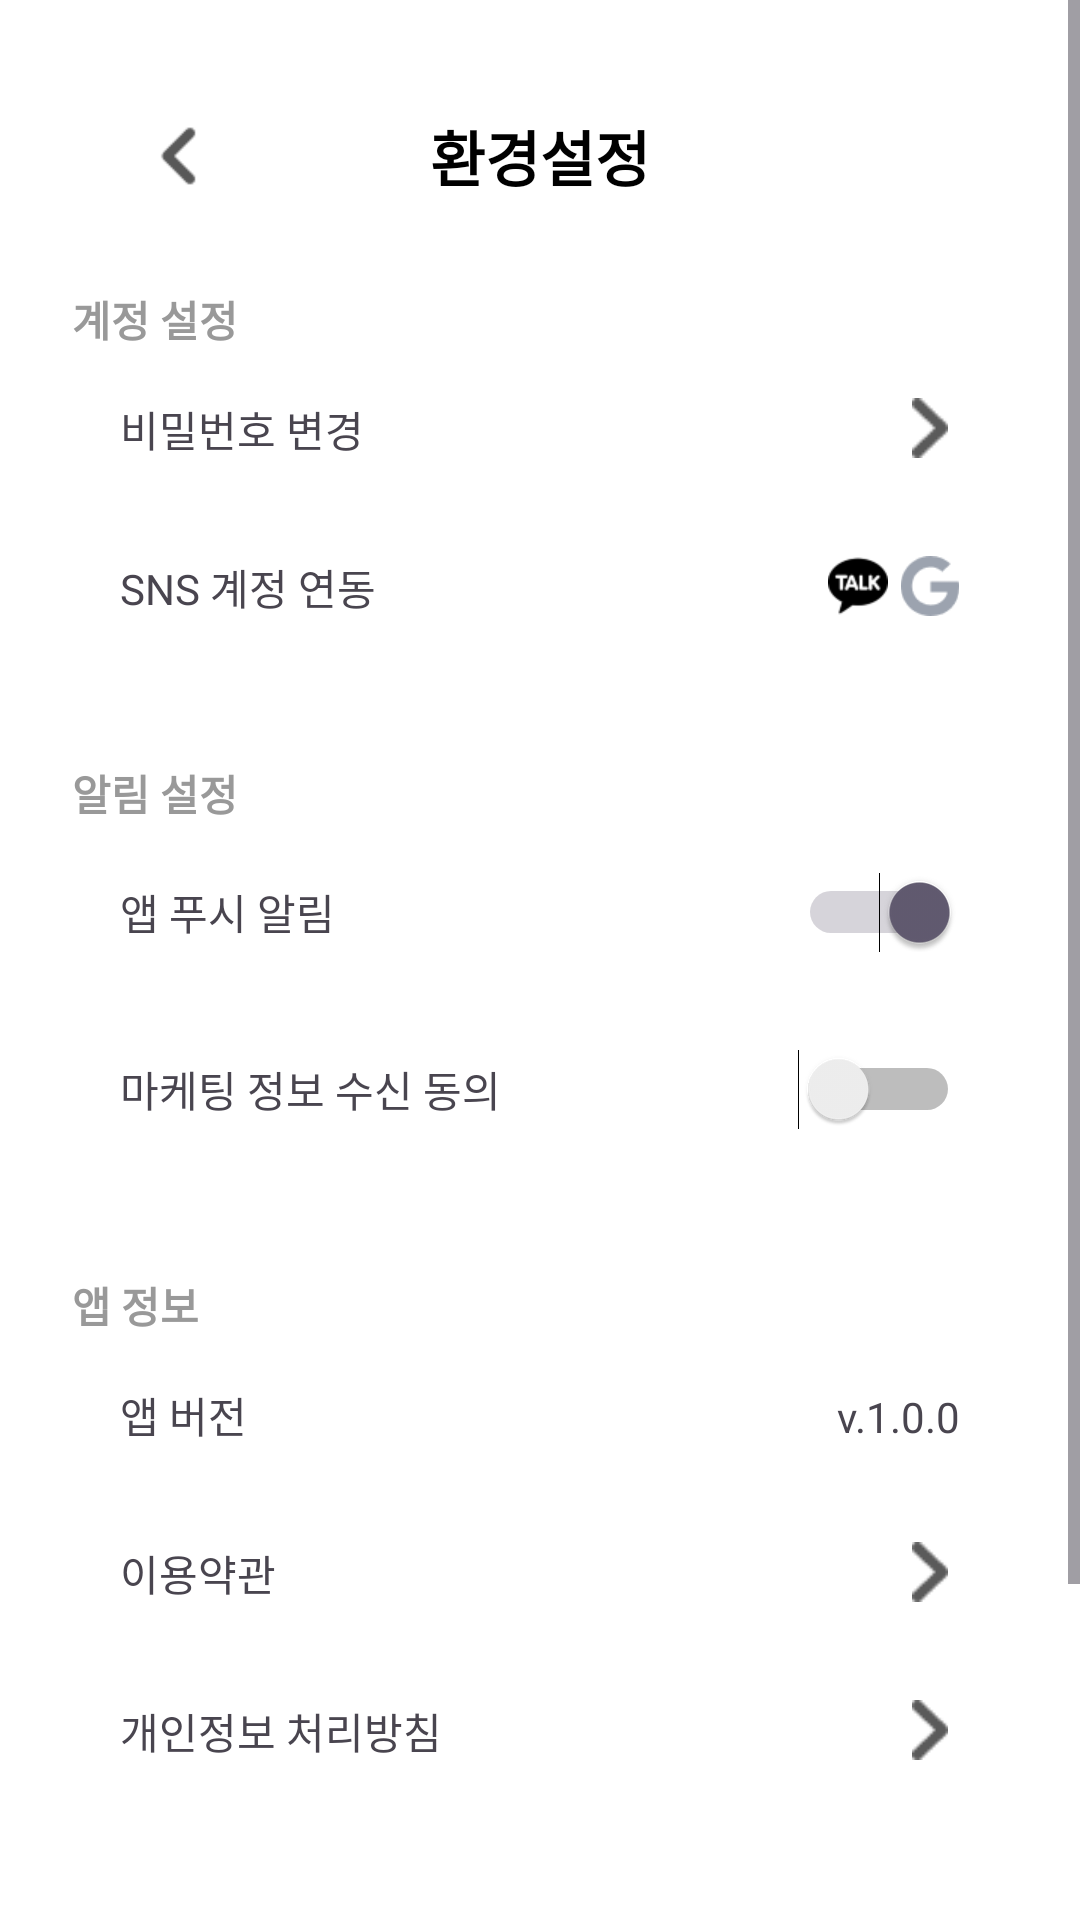

Named icons in this screenshot (1080w x 1920h) and their bounding boxes, (x1, y1, x2, y2):
back: (161, 127, 196, 185)
right: (912, 398, 948, 458), (912, 1542, 948, 1602), (912, 1700, 948, 1760)
